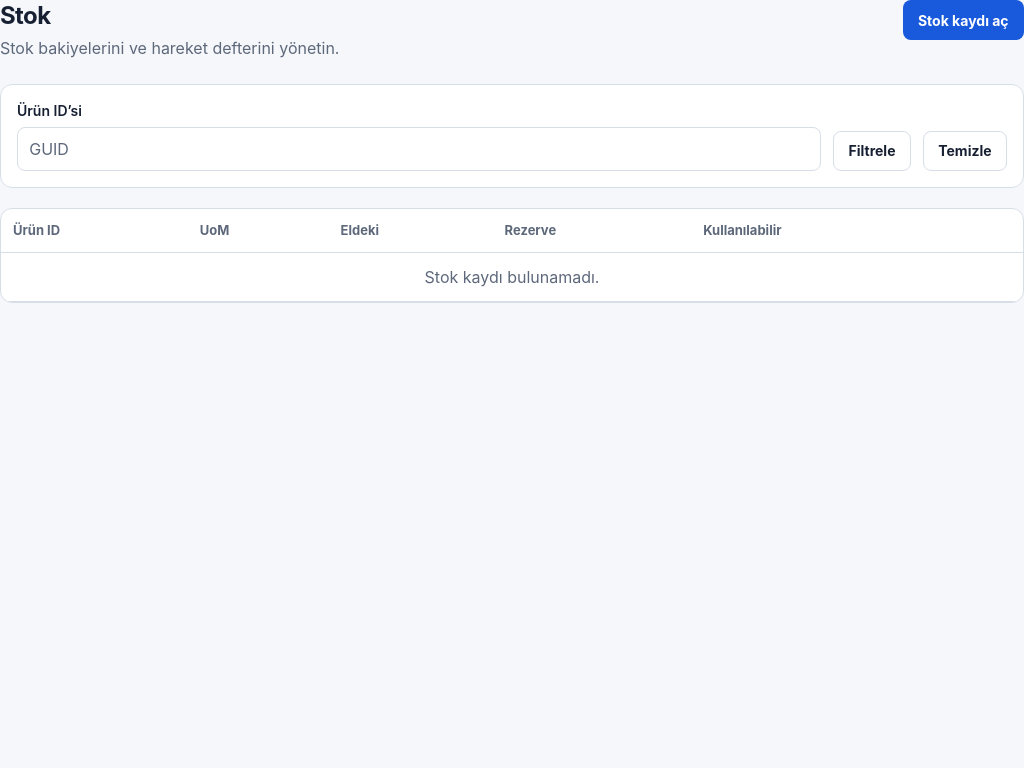
inventory use cases › shows empty inventory and validates and reports stock opening failures
Expected: the text "Stok kaydı bulunamadı." is shown, [1,253,1023,302]
Click the button "Stok kaydı aç" at (963, 20), box [902,0,1023,40]
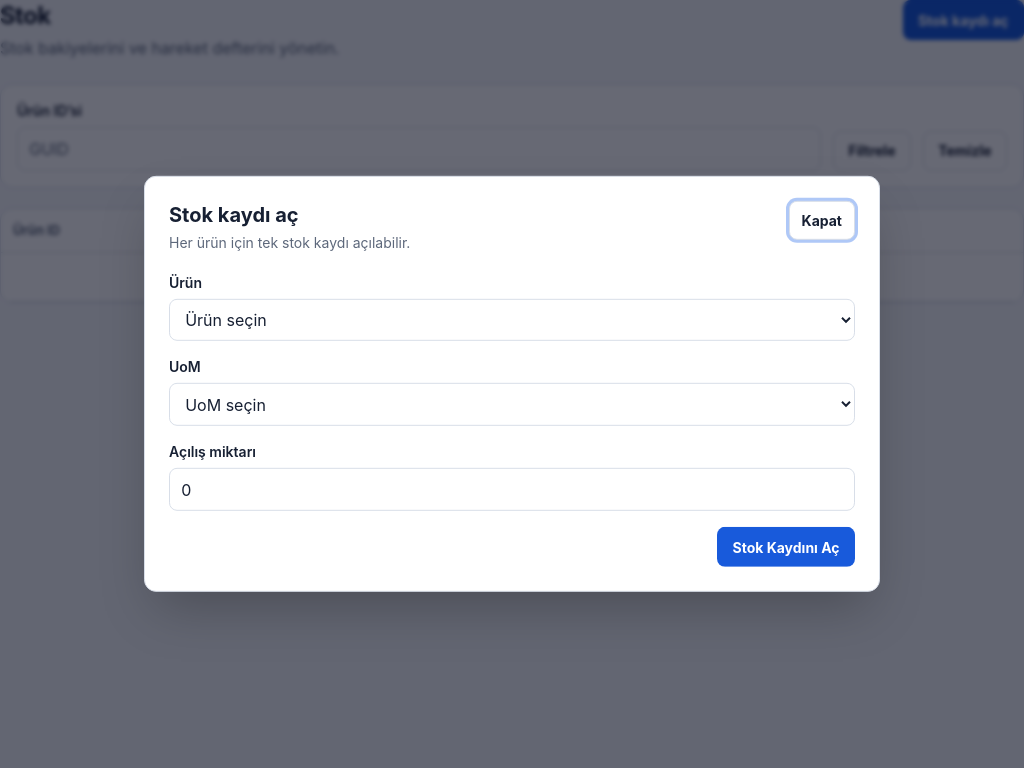
Replace the text in the number field labelled "Açılış miktarı" with "-1" at (512, 489), box [169,468,855,511]
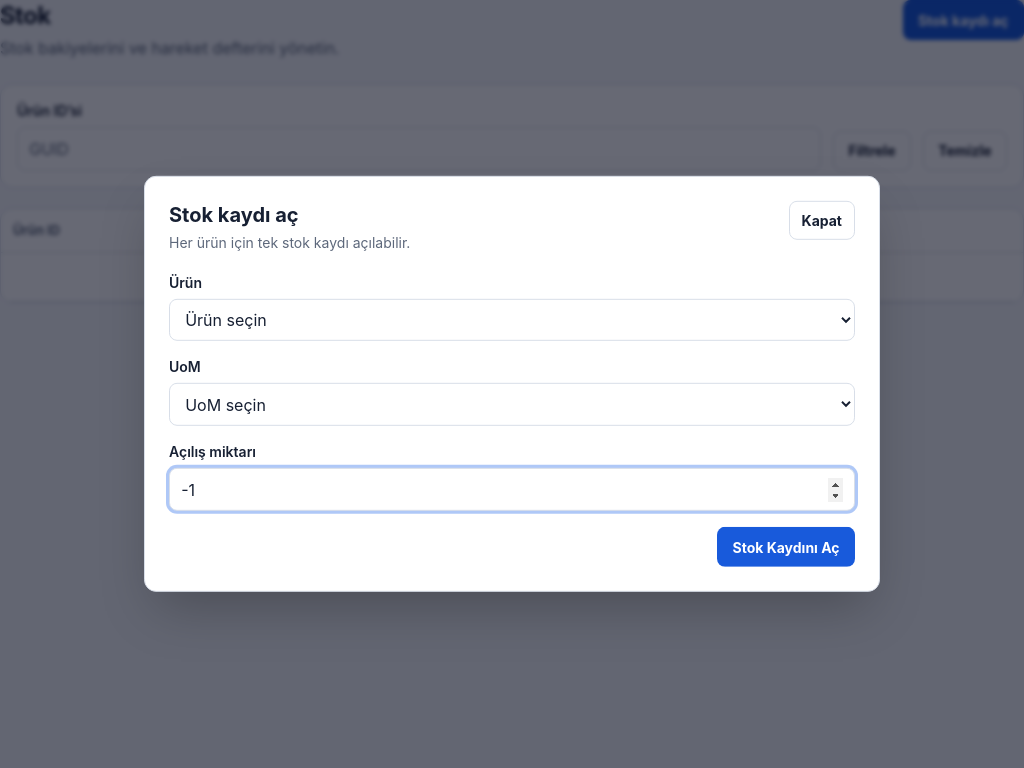
Click the button "Stok Kaydını Aç" at (786, 547), box [717,527,855,567]
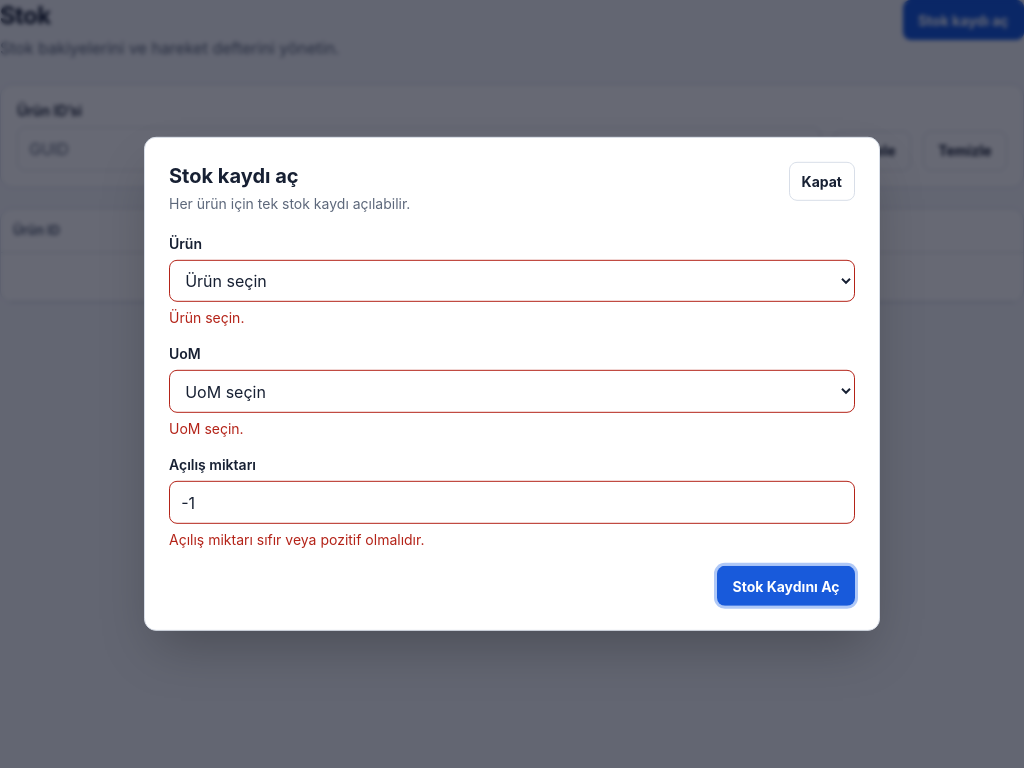
Now the text "Ürün seçin." is shown, box [169,309,244,326]
Now the text "Açılış miktarı sıfır veya pozitif olmalıdır." is shown, box [169,531,424,548]
Select "SKU — Ürün" in the dropdown labelled "Ürün" at (512, 281), box [169,260,855,302]
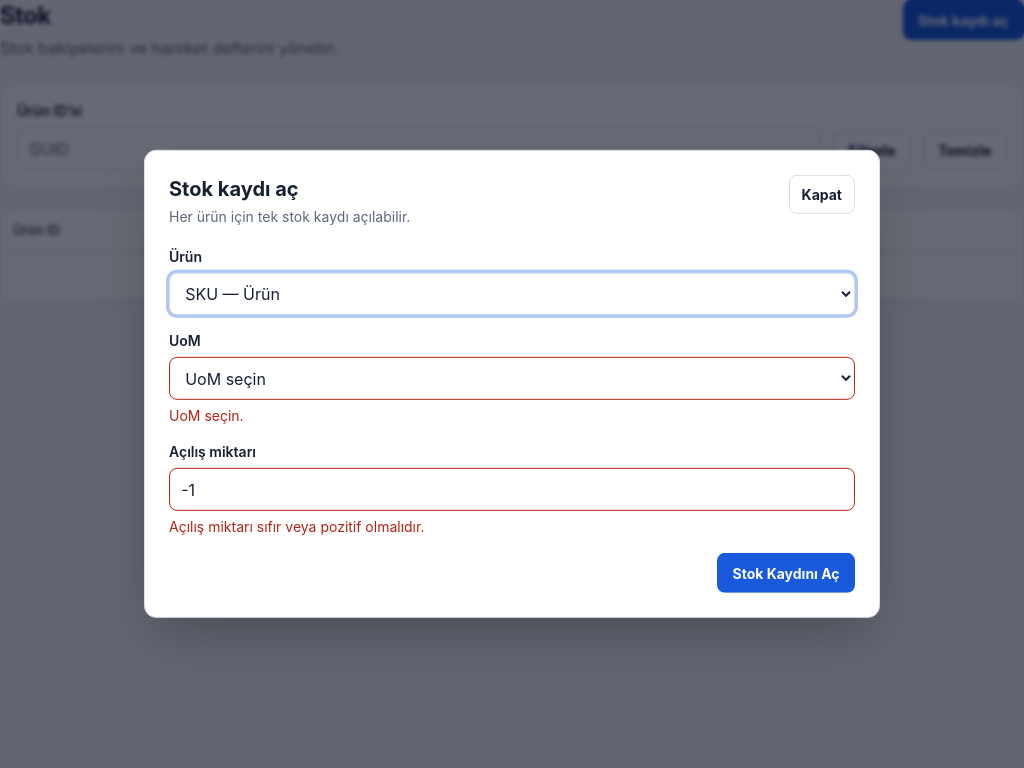
Clear the number field labelled "Açılış miktarı" at (512, 489), box [169,468,855,511]
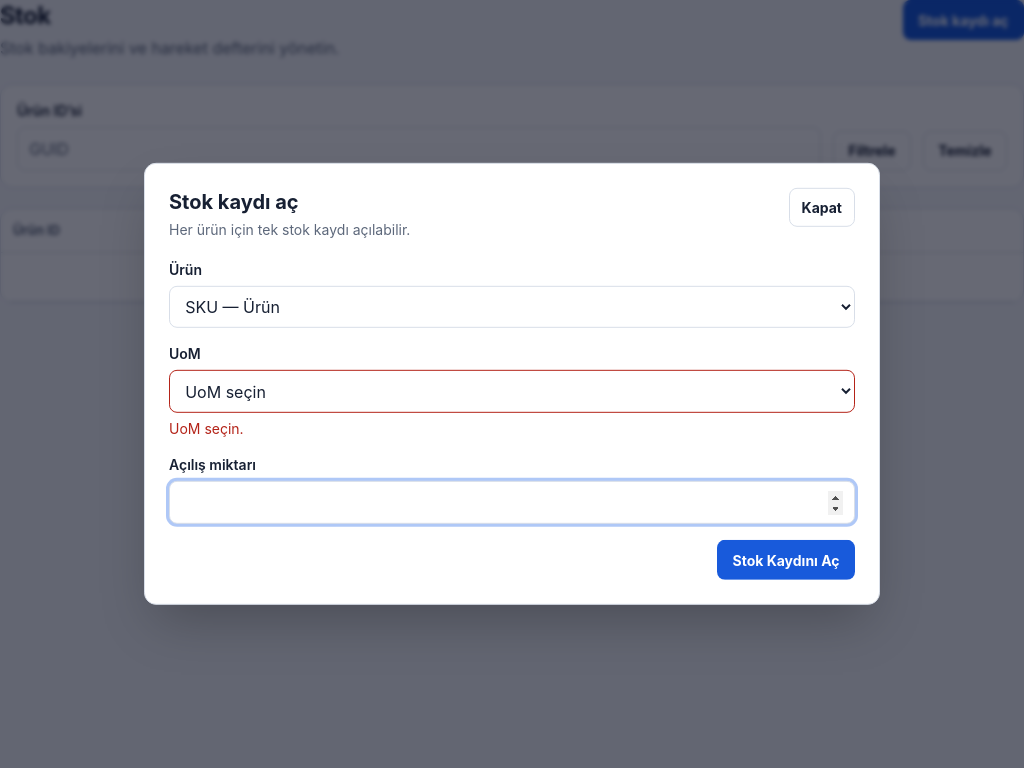
Type "5" into the number field labelled "Açılış miktarı" at (512, 502), box [169,481,855,524]
Click the button "Stok Kaydını Aç" at (786, 560), box [717,540,855,580]
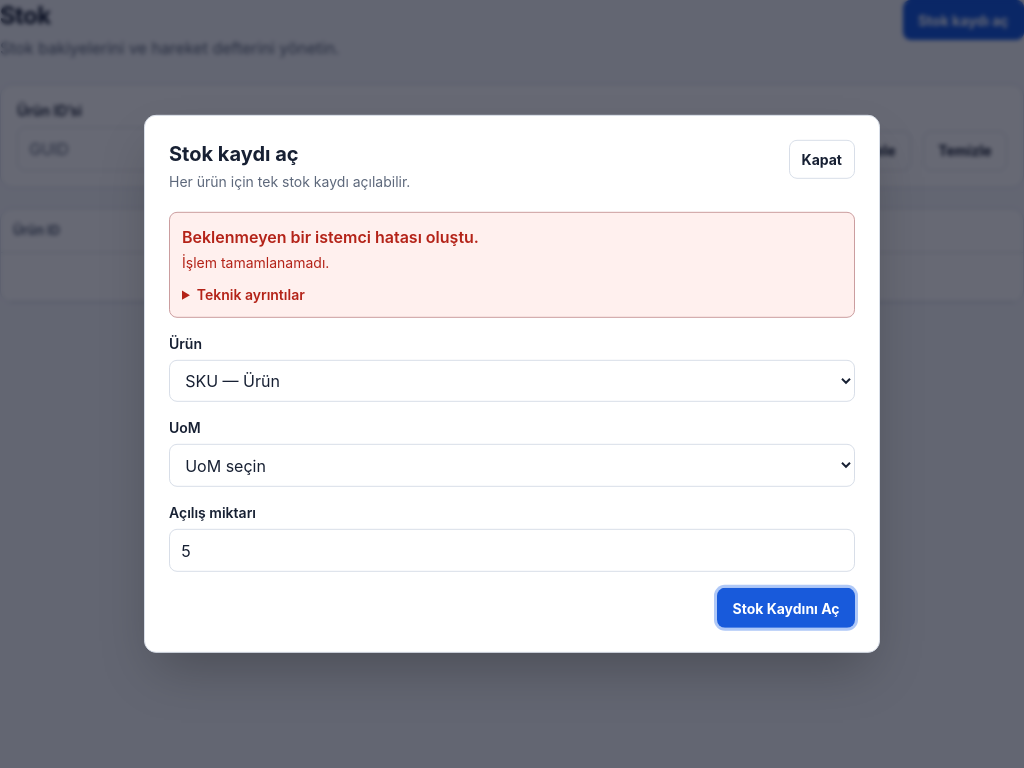
Now the heading "Beklenmeyen bir istemci hatası oluştu." is shown, box [182,227,479,247]
